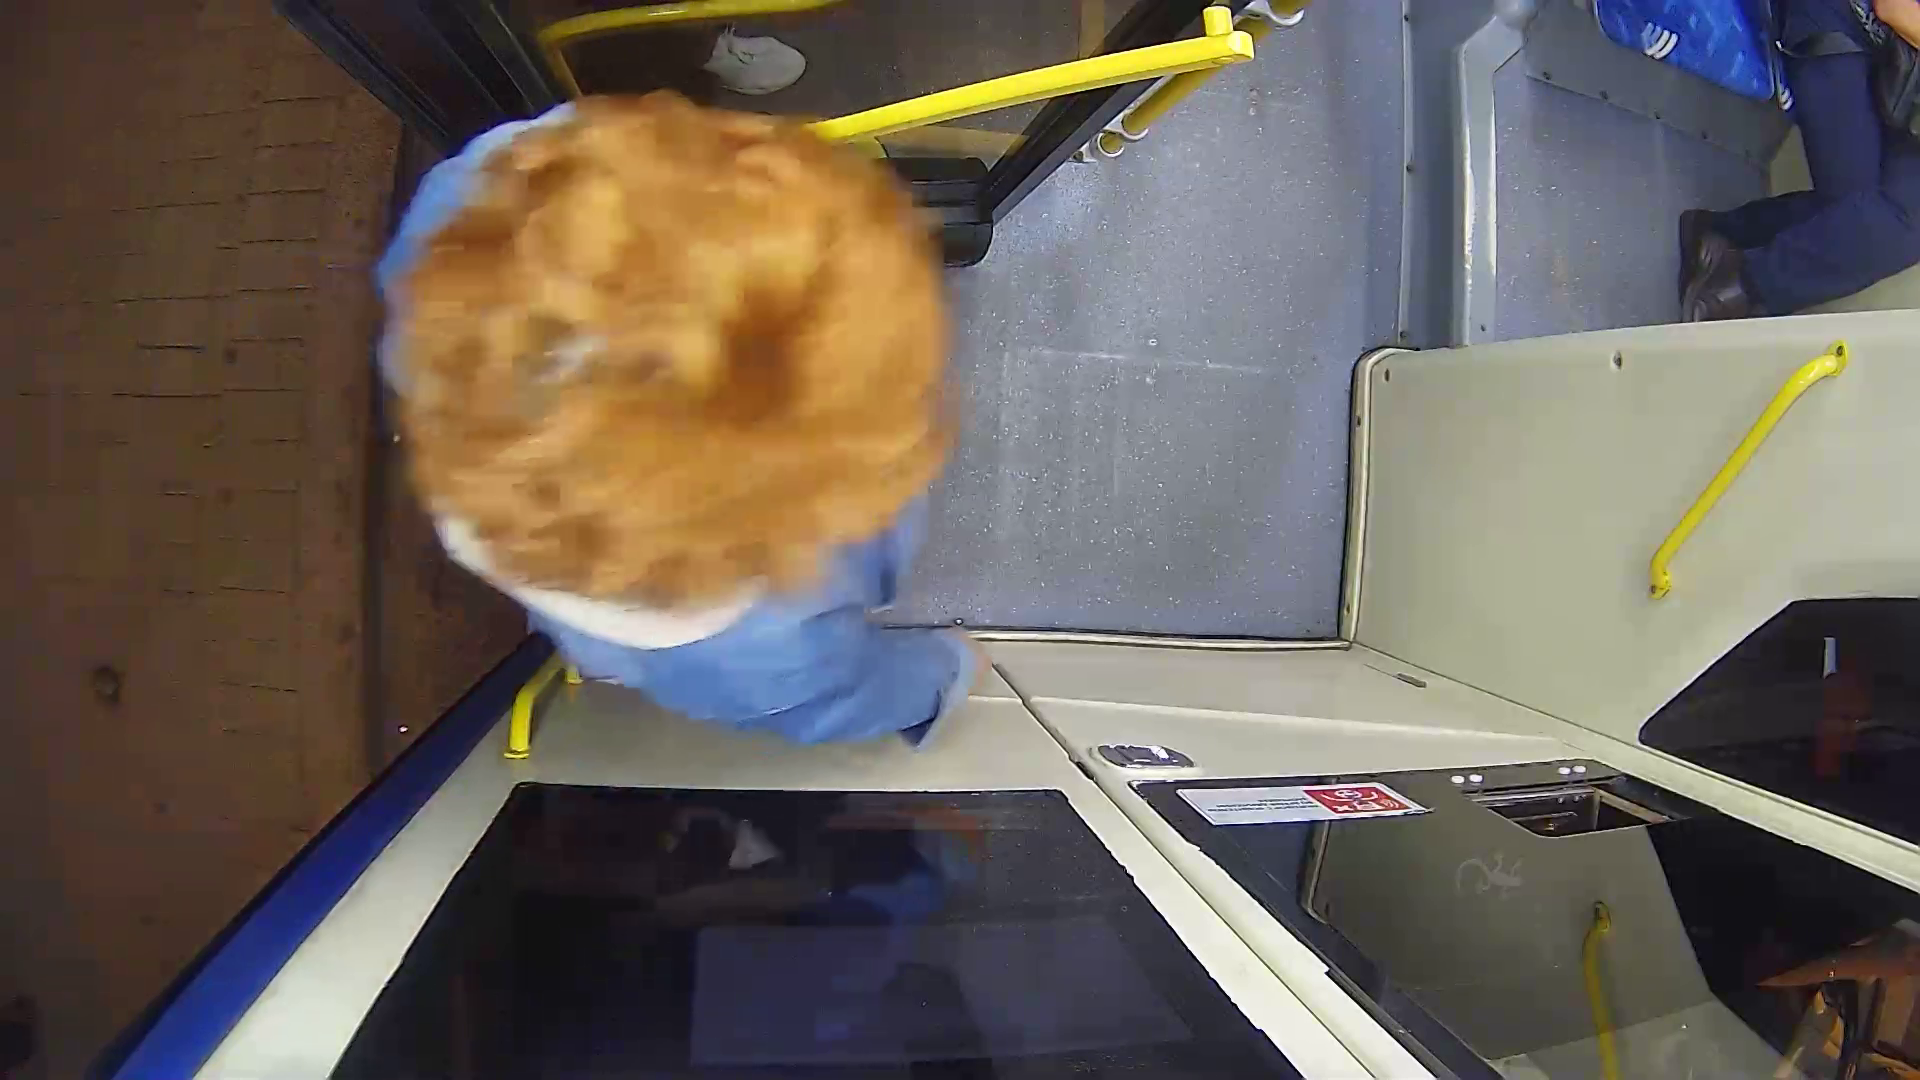person: (345, 106, 1051, 786)
